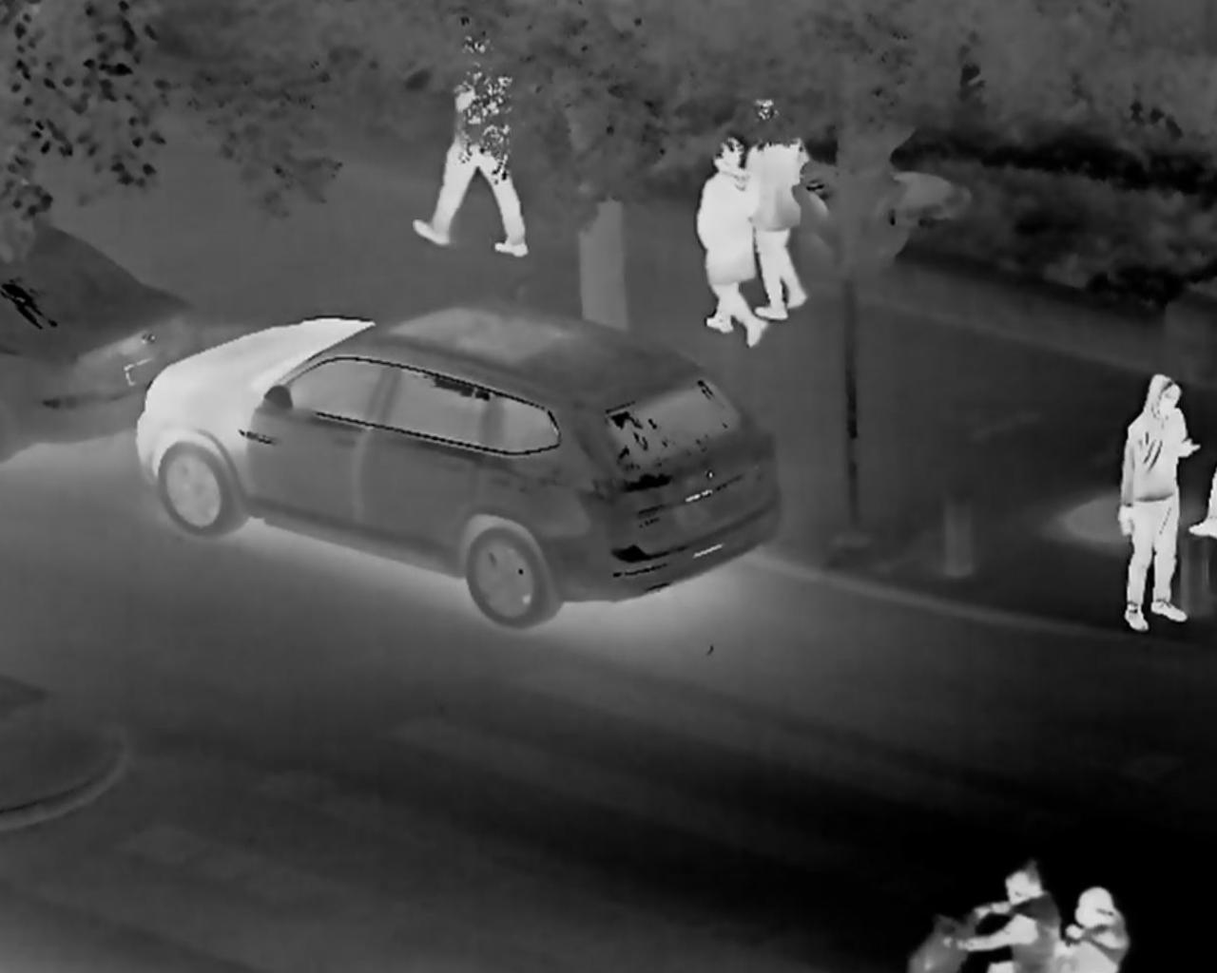person: (412, 33, 527, 259), (1112, 367, 1188, 628), (692, 132, 763, 345), (941, 853, 1065, 973), (744, 103, 805, 320), (1051, 883, 1136, 973)
